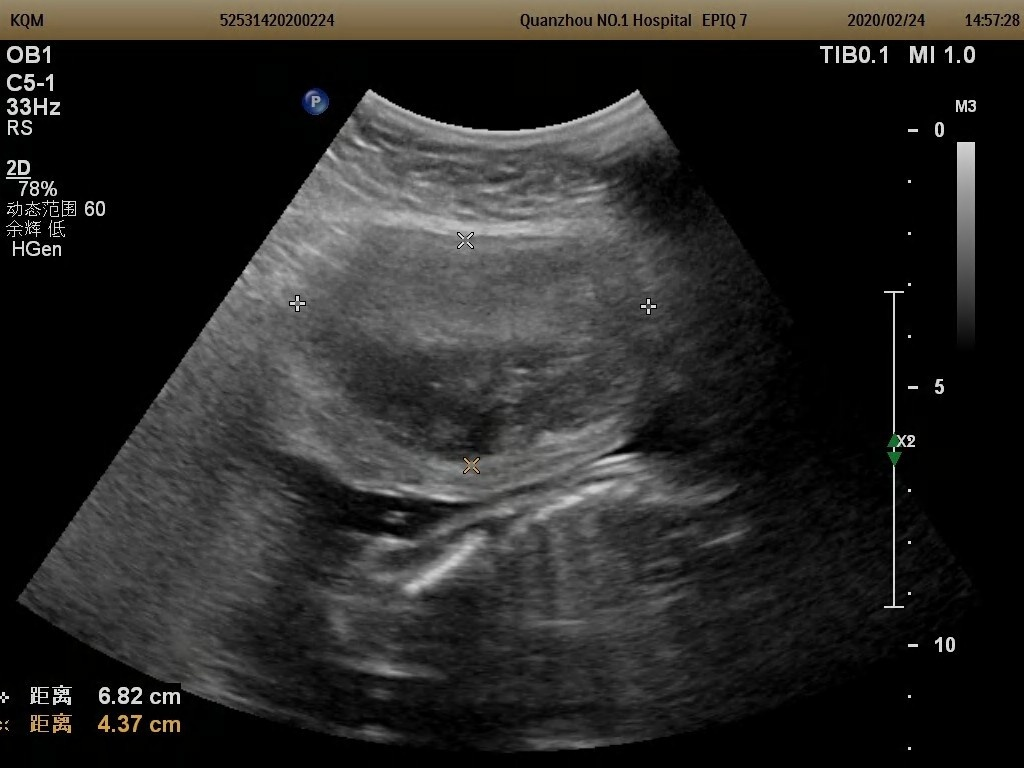肌瘤: (329, 239, 642, 454)
